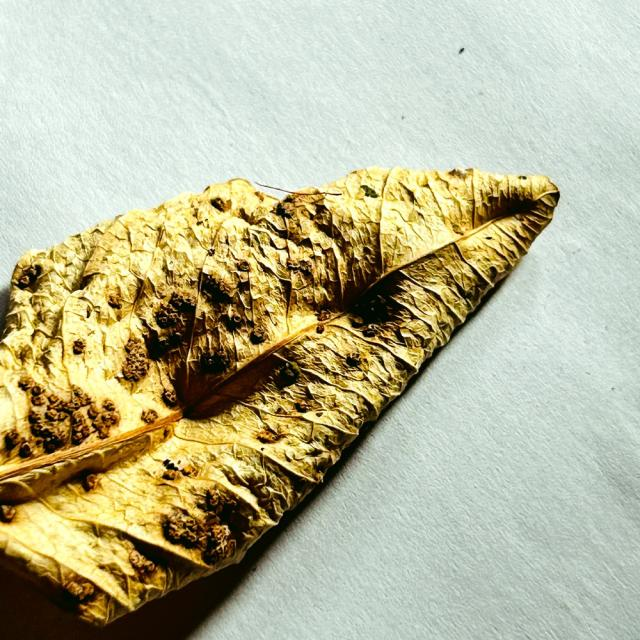DryLeaf_Lemon: (0, 168, 559, 625)
